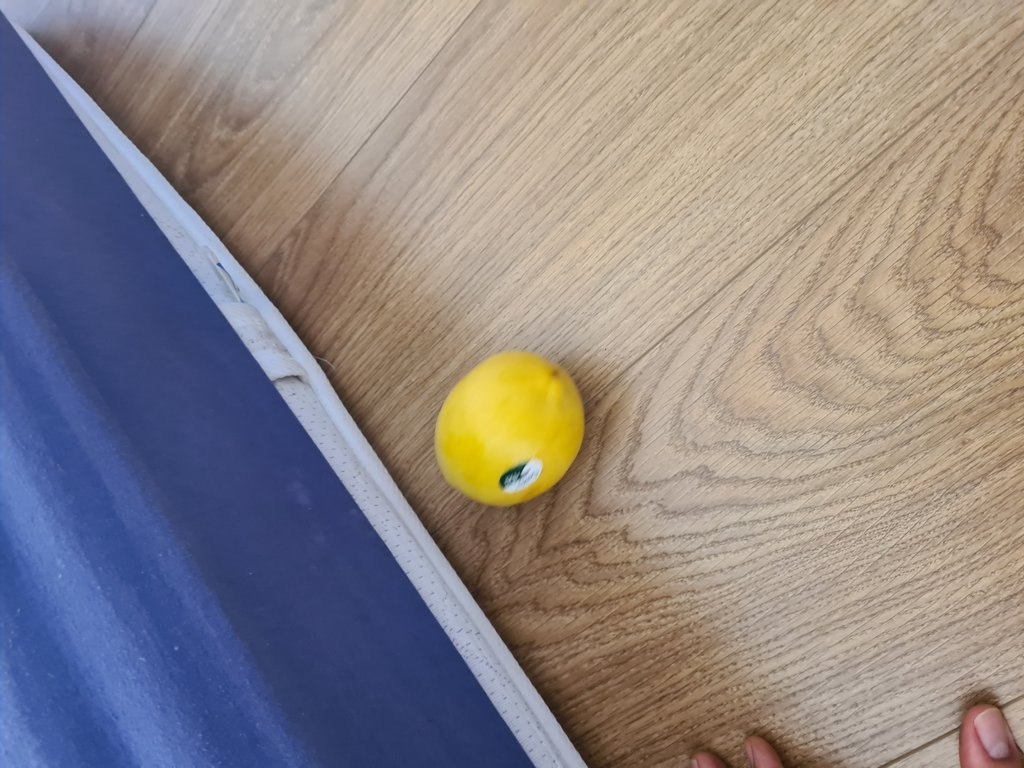lemon: (441, 341, 575, 507)
